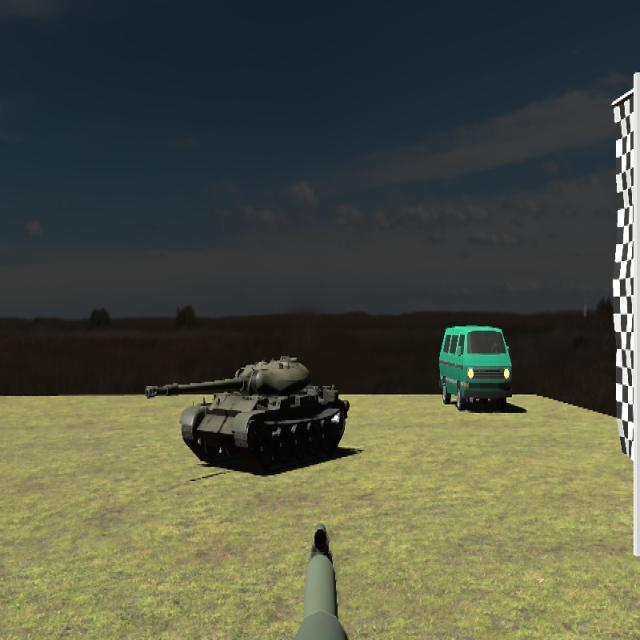Tank: (144, 353, 352, 474)
car: (438, 325, 513, 412)
